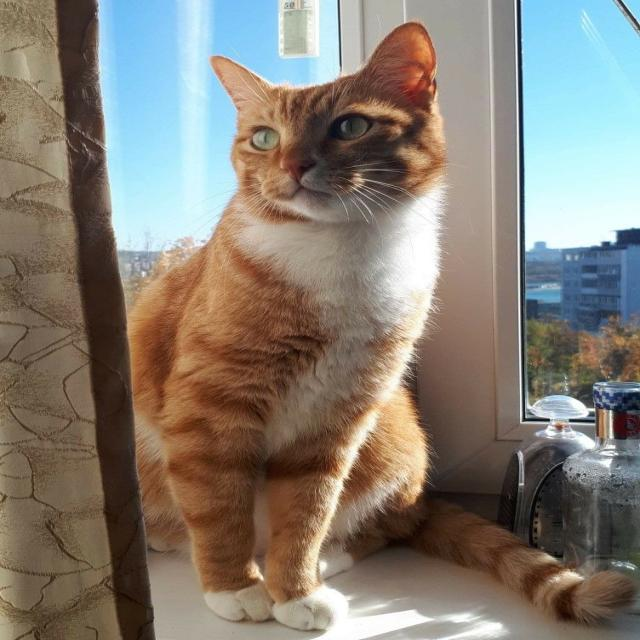sarman: (129, 22, 633, 629)
